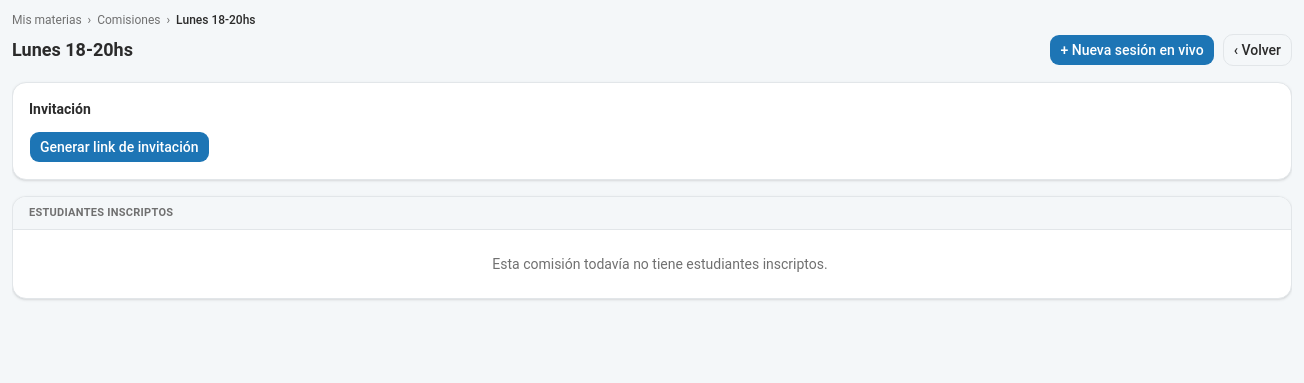
Test: ComisionDetalleDocente › genera el link de invitación y lo muestra con botón Copiar
Check: the heading "Lunes 18-20hs" is shown, box left=12, top=36, right=133, bottom=64
Click the button "Generar link de invitación" at (119, 147), box left=29, top=131, right=210, bottom=163
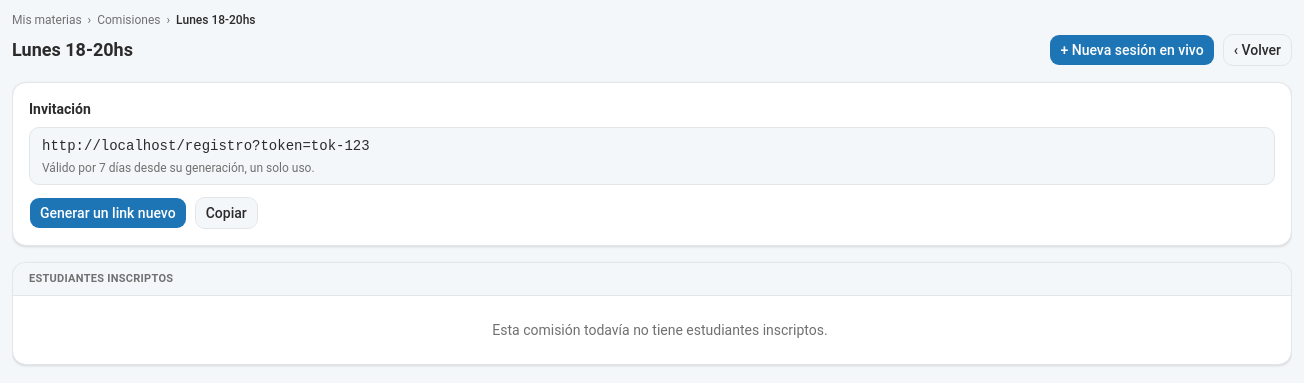
Check: the text "http://localhost/registro?token=tok-123" is shown, box left=42, top=138, right=370, bottom=154
Check: the button "Generar un link nuevo" is shown, box left=29, top=197, right=187, bottom=229
Check: the button "Copiar" is shown, box left=195, top=197, right=258, bottom=229
